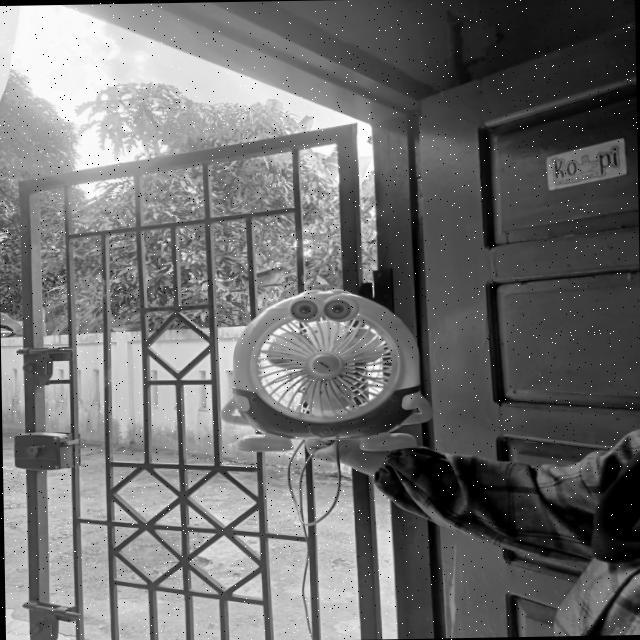fan: (216, 284, 439, 448)
